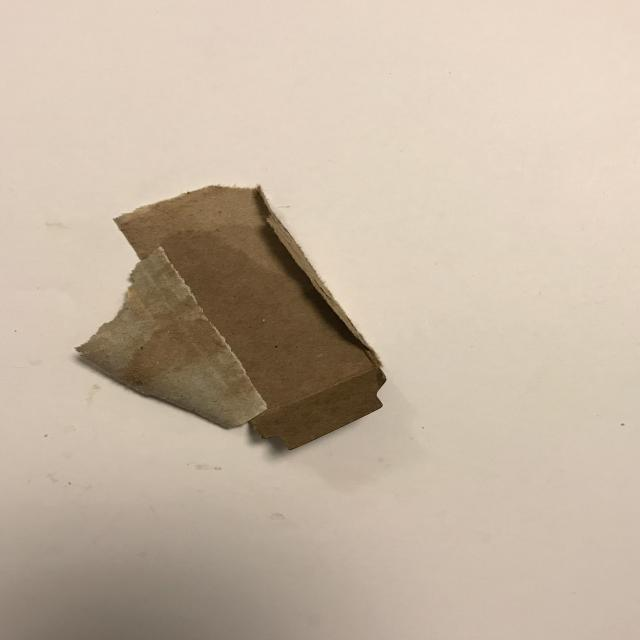paper: (62, 176, 404, 467)
